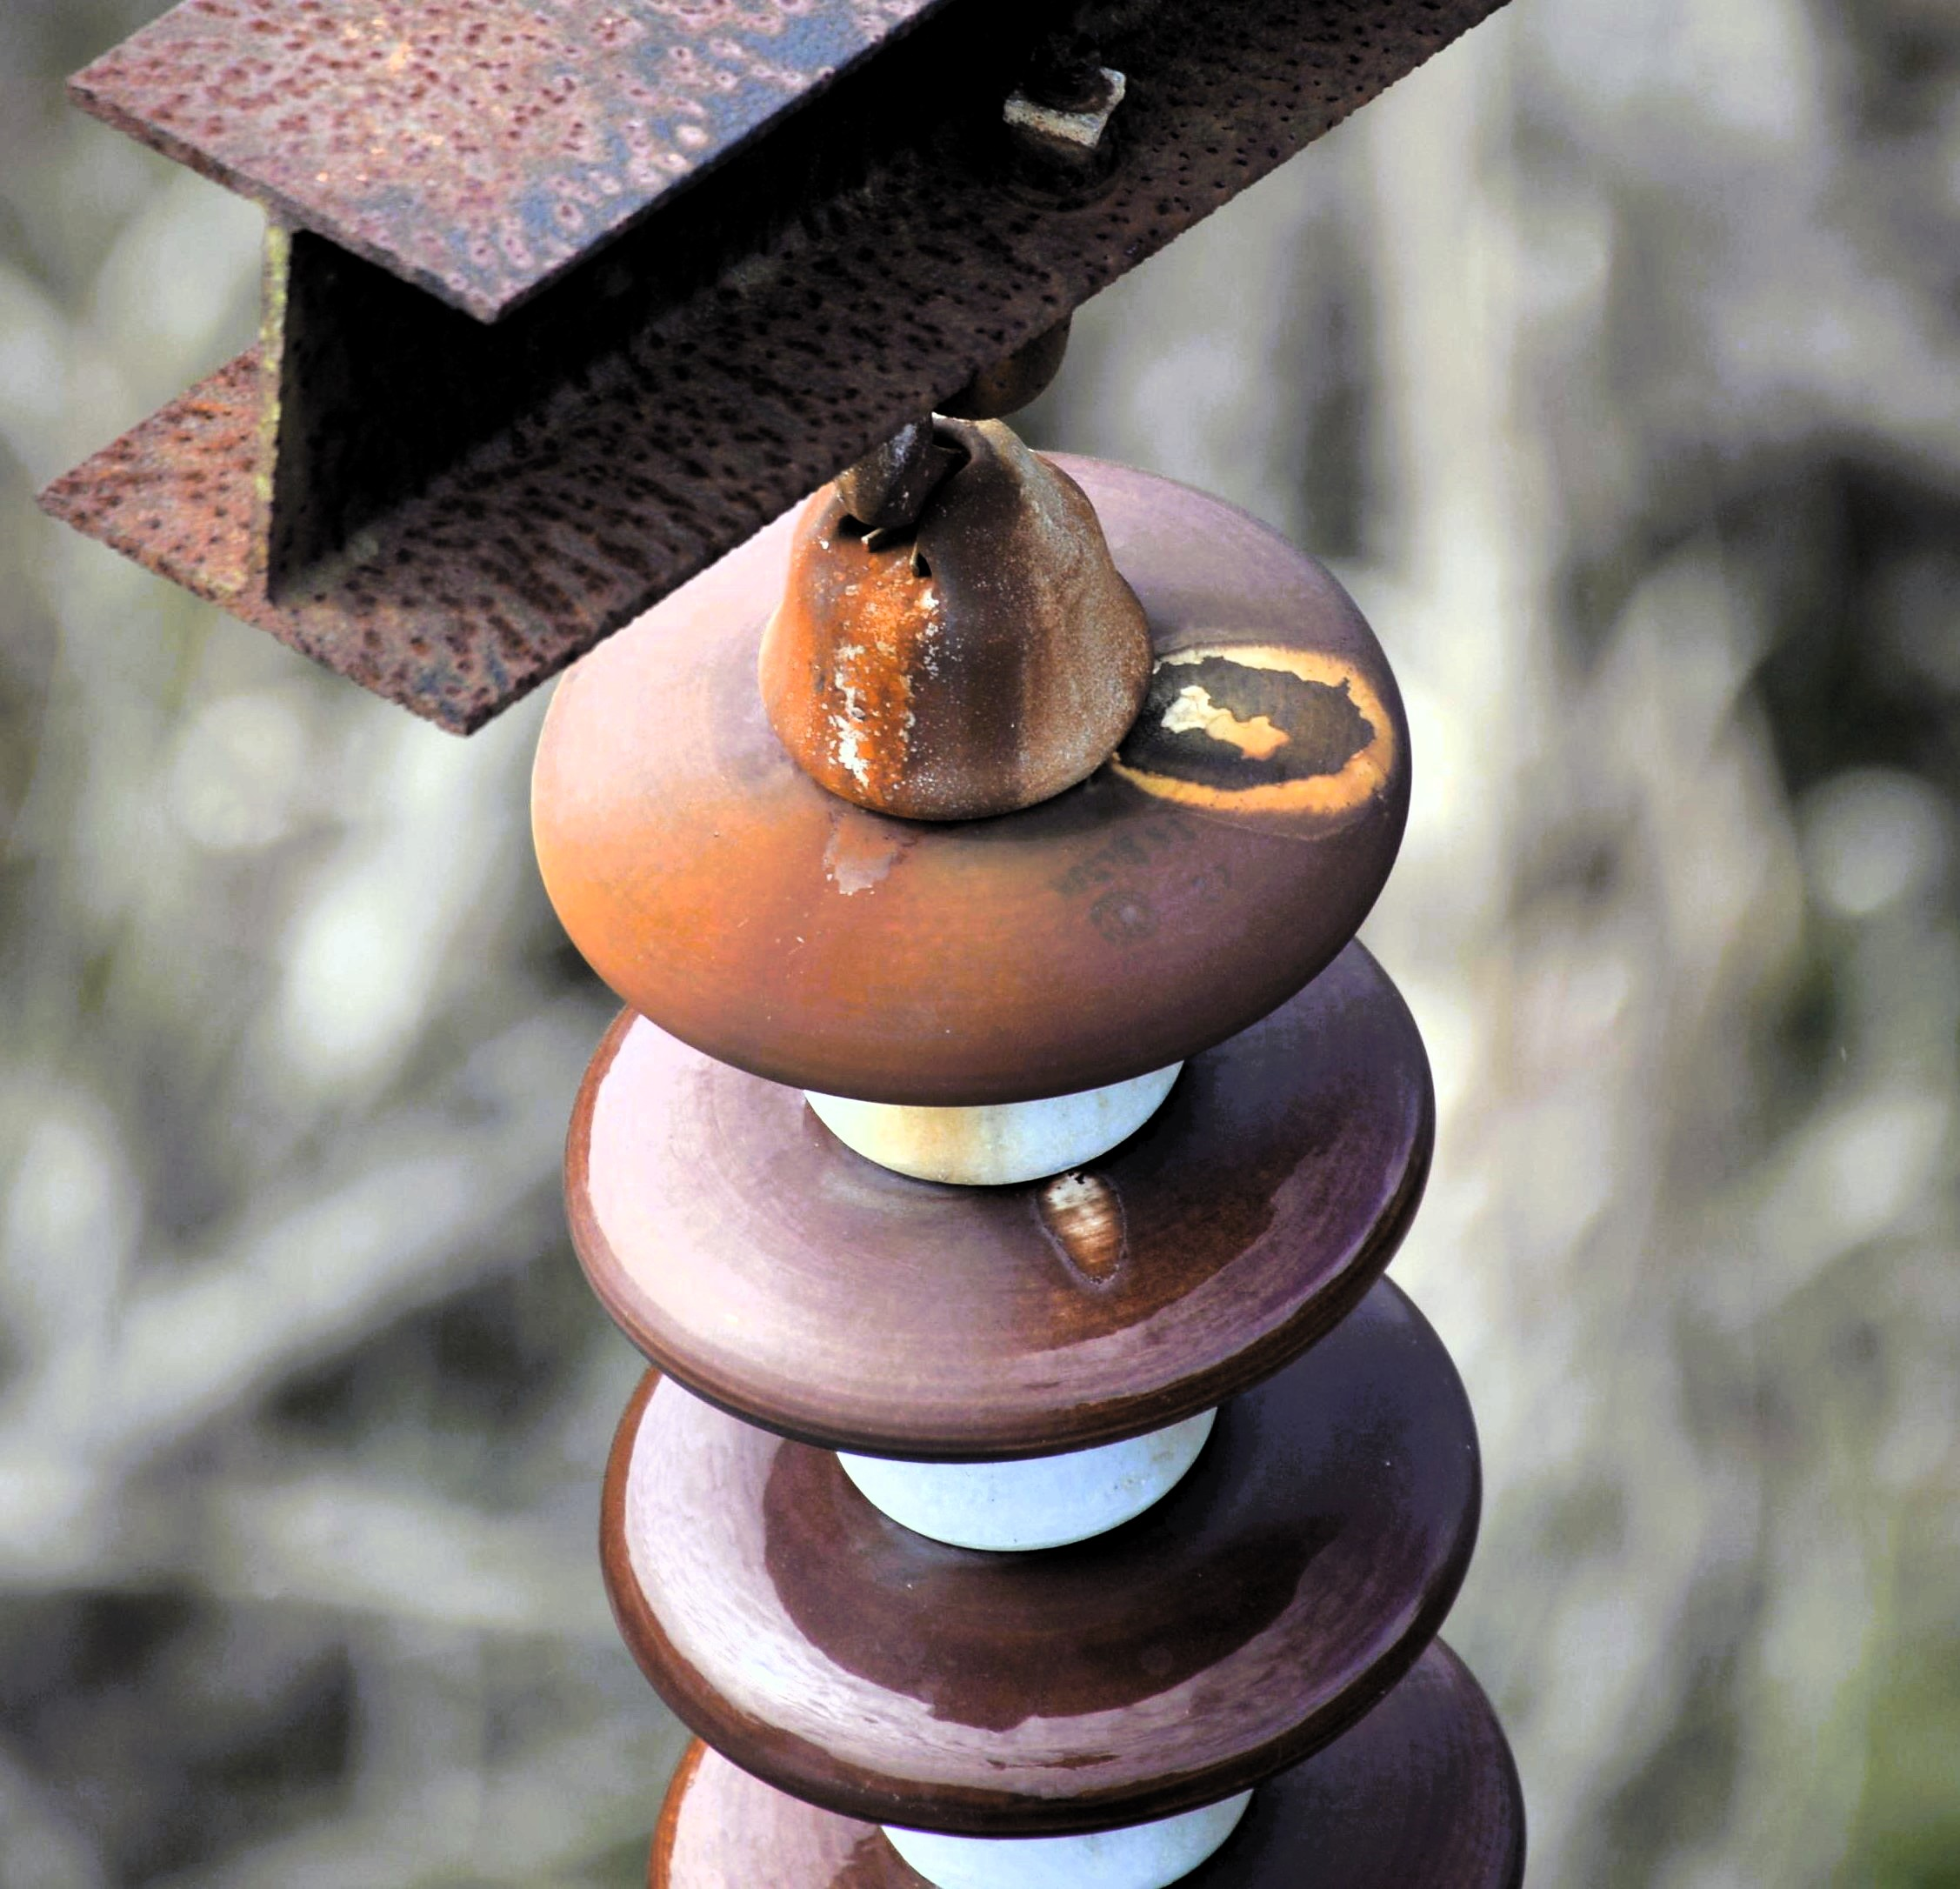Insulator flashover: (523, 404, 1437, 1113)
